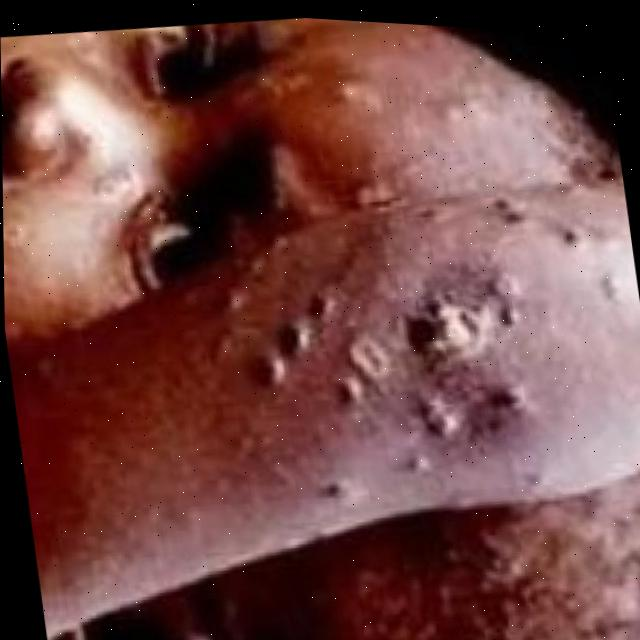Eczema: (217, 233, 554, 475), (397, 489, 640, 640), (318, 43, 474, 194), (3, 225, 62, 332)
